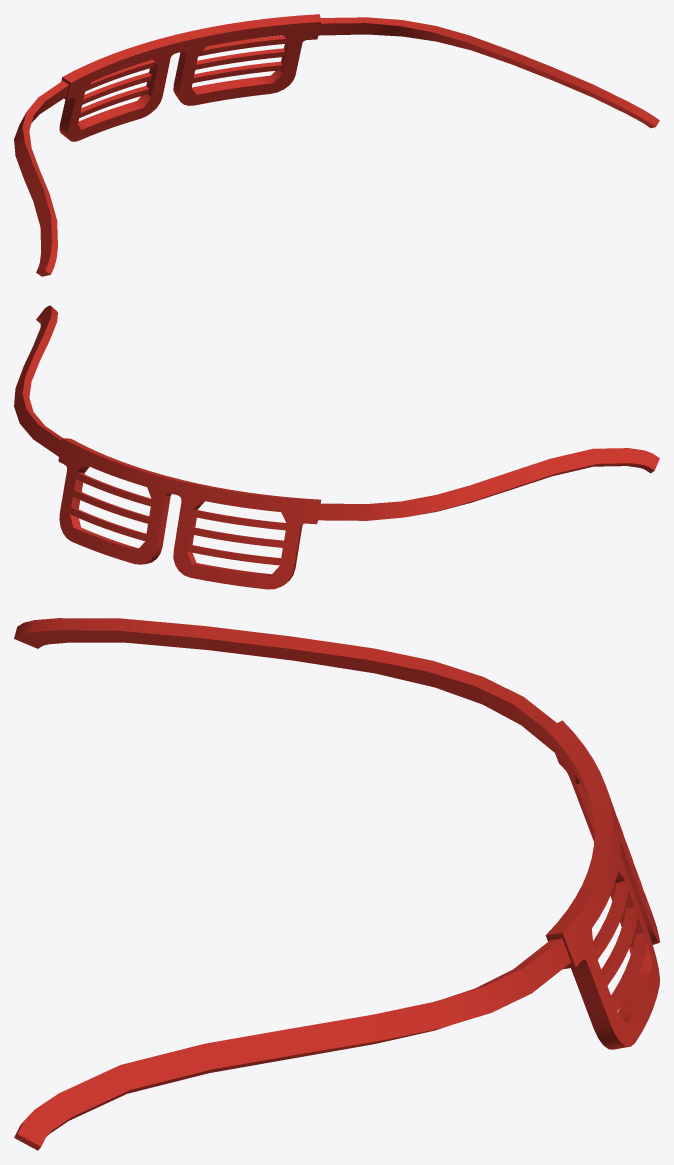
File: Cosmetic_Shutter_Shades.glb
The picture shows the model from 3 angles, top to bottom: view 1: azimuth 30°, elevation 25°; view 2: azimuth 150°, elevation 25°; view 3: azimuth 270°, elevation 25°; orthographic projection. The views are drawn at different scales.
Visible parts, largest first — view 1: Shutter_Shades; view 2: Shutter_Shades; view 3: Shutter_Shades.
Part boxes in pixels (x1,y1,x2,y2): Shutter_Shades: [14, 14, 659, 276]; Shutter_Shades: [14, 305, 659, 589]; Shutter_Shades: [14, 618, 659, 1150].
Size of the model in its own units: 1.06 by 0.1365 by 0.5662.
